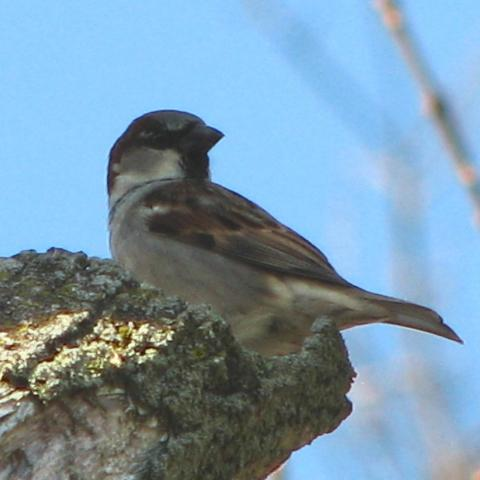bird: (103, 106, 465, 359)
